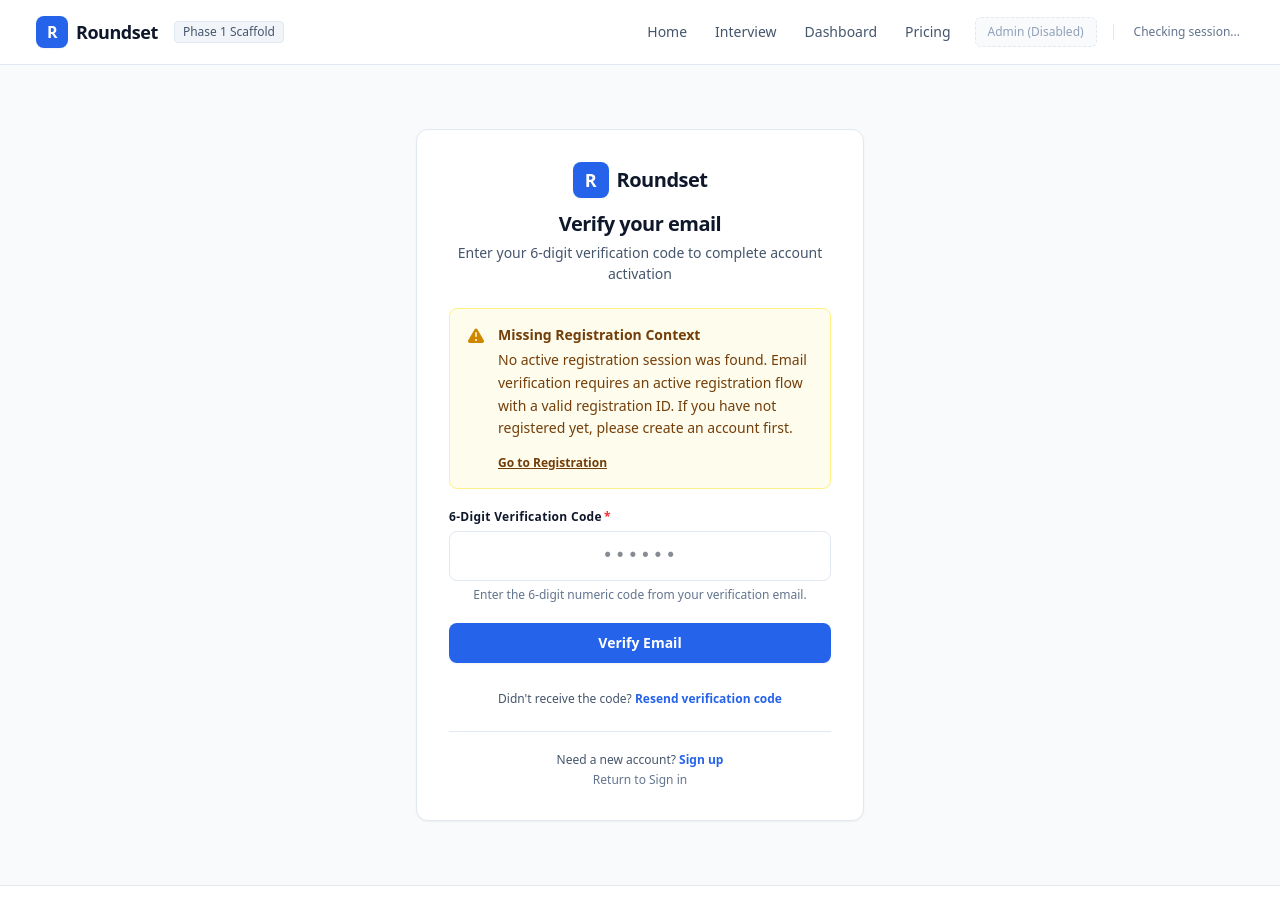
Test: Auth Pages and Flows (P2-FE-01) › Client-Side Validation and Error Handling › rejects non-6-digit OTP code on email verification
# Empty submission
Click the button "Verify Email" at (640, 643), box x1=449 y1=623 x2=831 y2=663
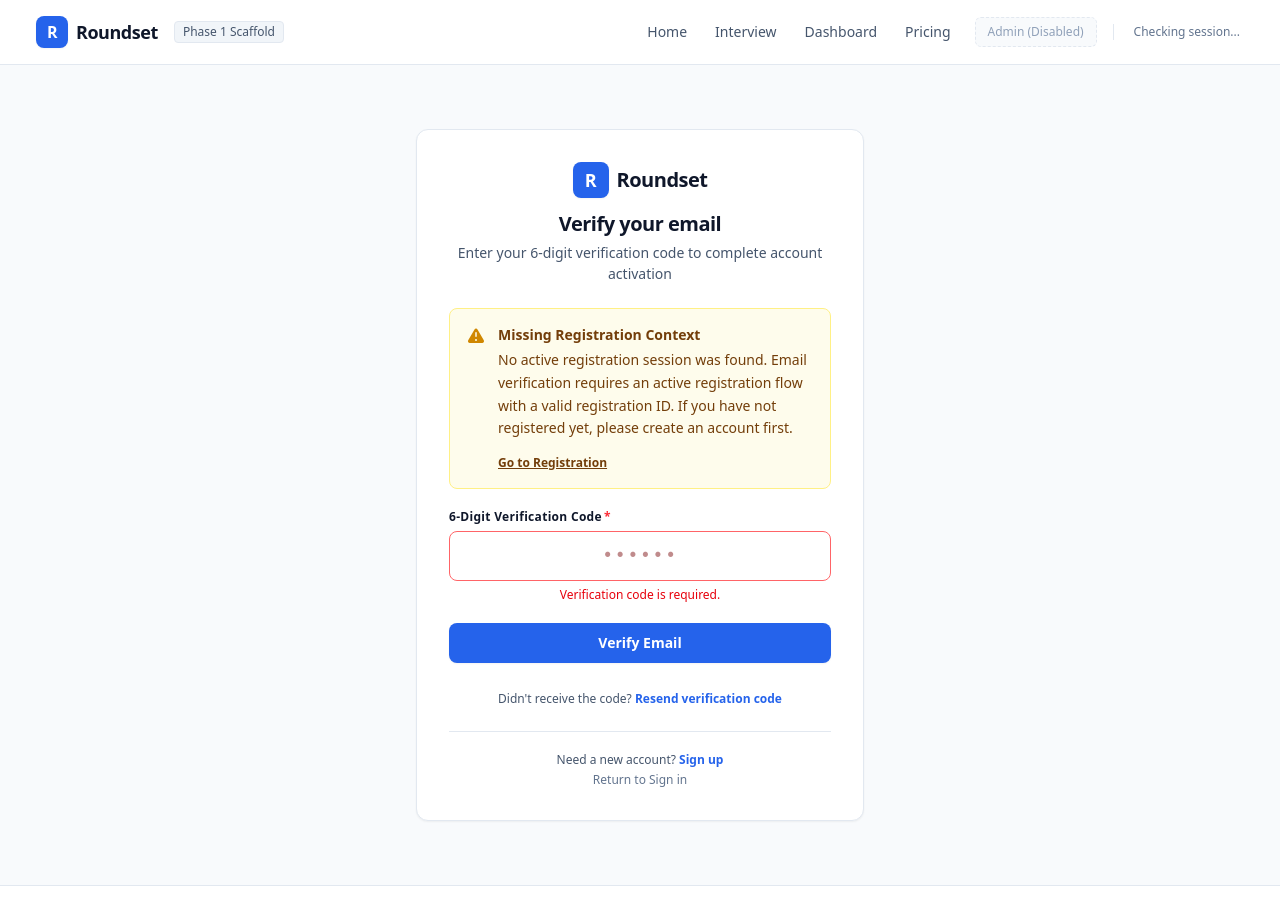
expect the text "Verification code is required." is shown: met, box x1=560 y1=586 x2=720 y2=603
Type "123" into the field labelled "6-Digit Verification Code*" at (640, 556), box x1=449 y1=531 x2=831 y2=581
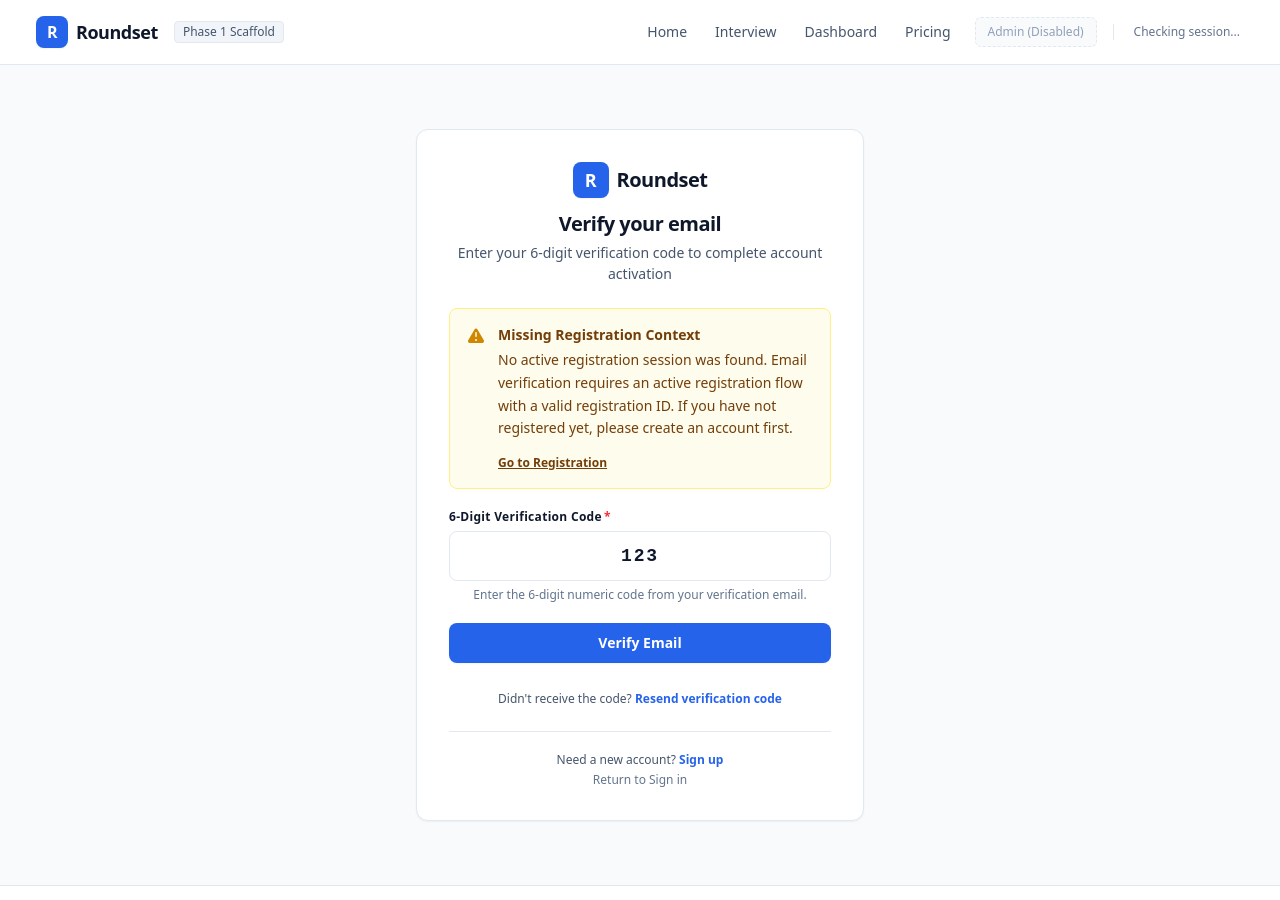
Click the button "Verify Email" at (640, 643), box x1=449 y1=623 x2=831 y2=663
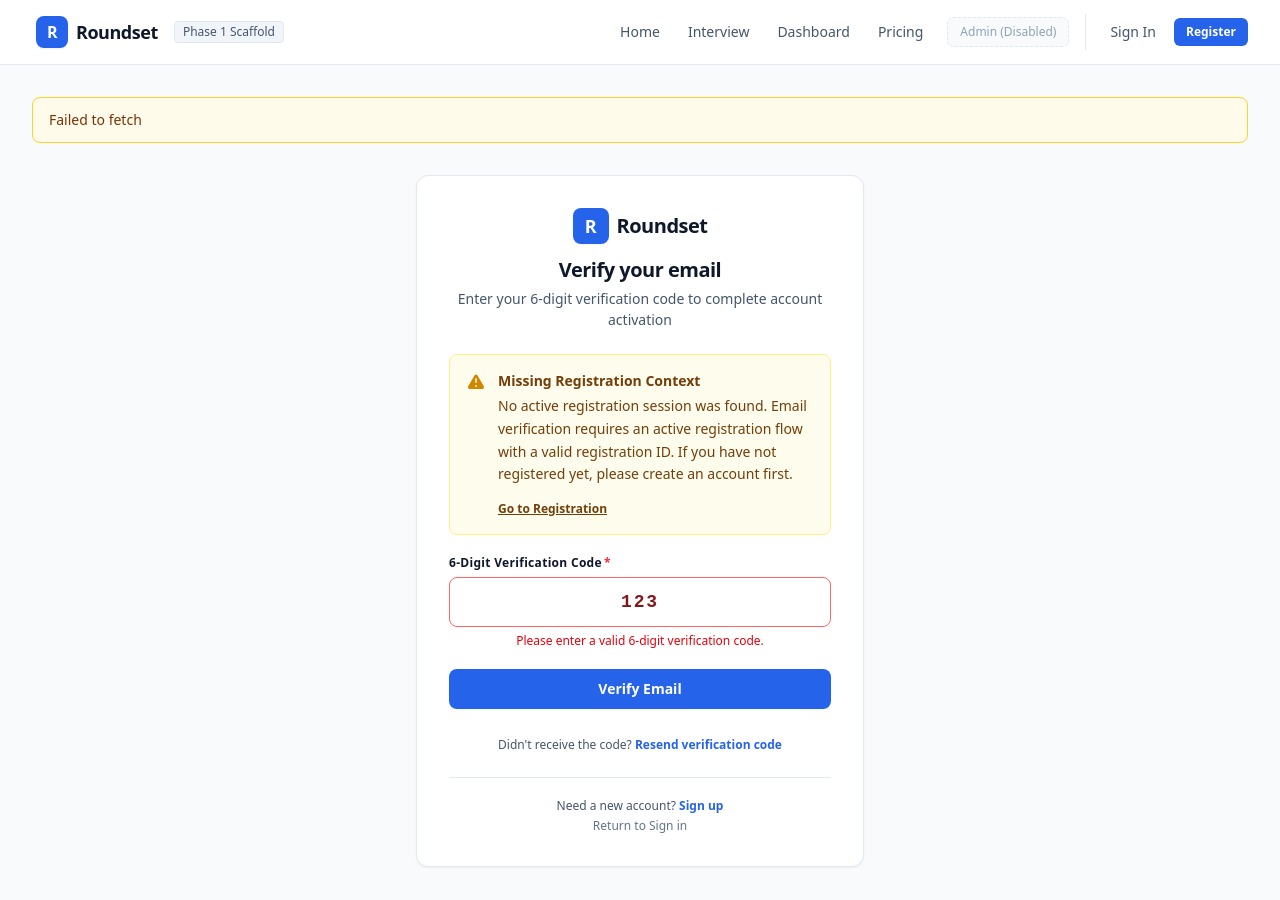
expect the text "Please enter a valid 6-digit verification code." is shown: met, box x1=516 y1=632 x2=764 y2=649
